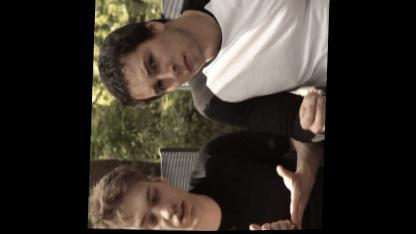knife: (211, 216, 286, 230)
